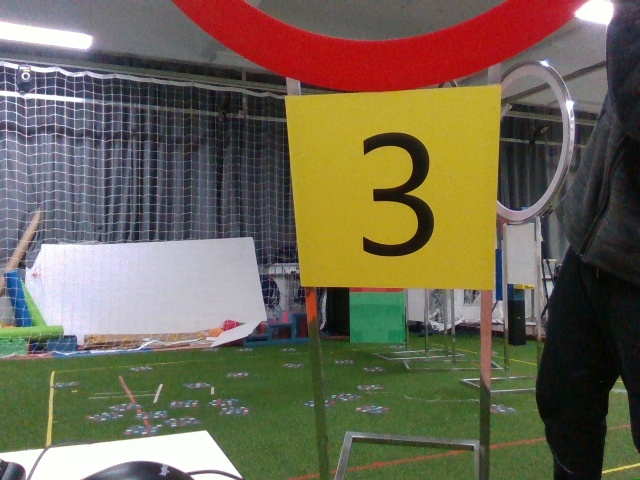target: (289, 89, 499, 286)
